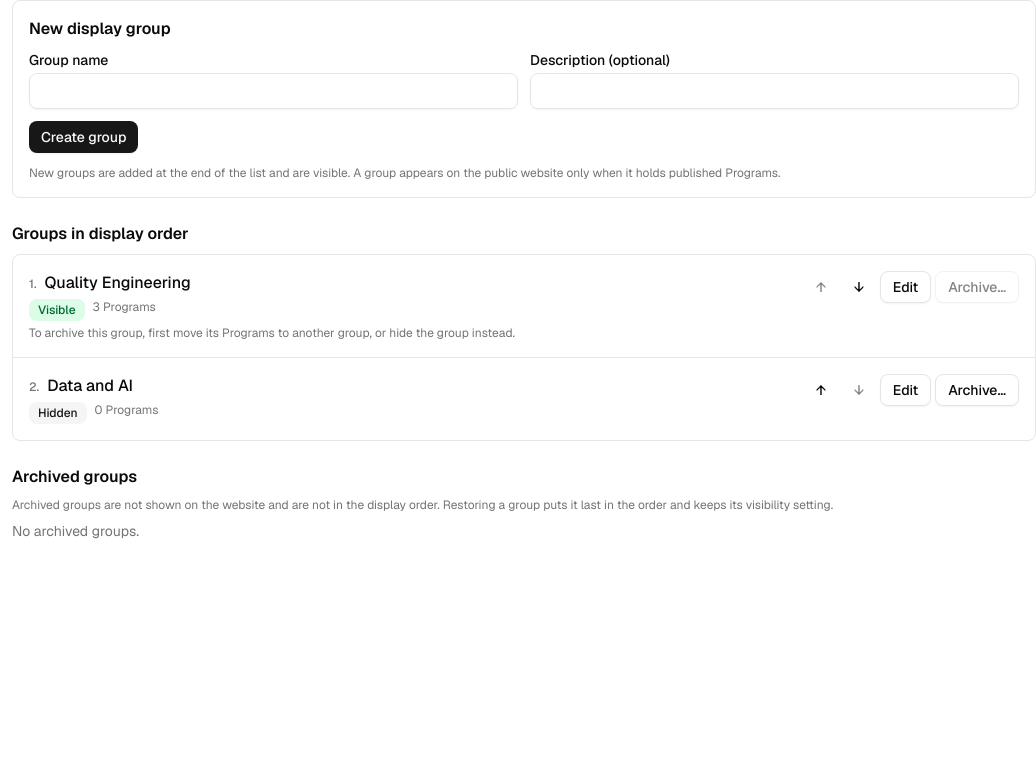
it: DisplayGroupsManager archive and restore › shows a refused archive as an alert
The image size is (1036, 768).
Click the button with aria-label "Archive Data and AI": (977, 390) [935,374,1019,406]
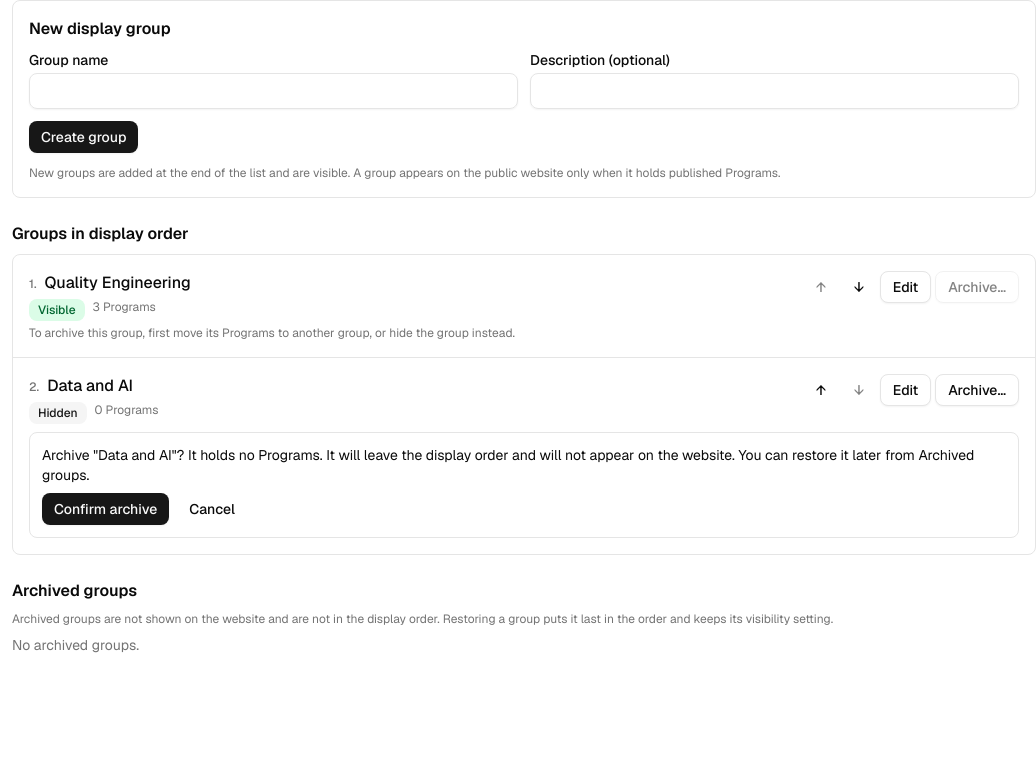
Click the button "Confirm archive": (106, 509) [42,493,169,525]
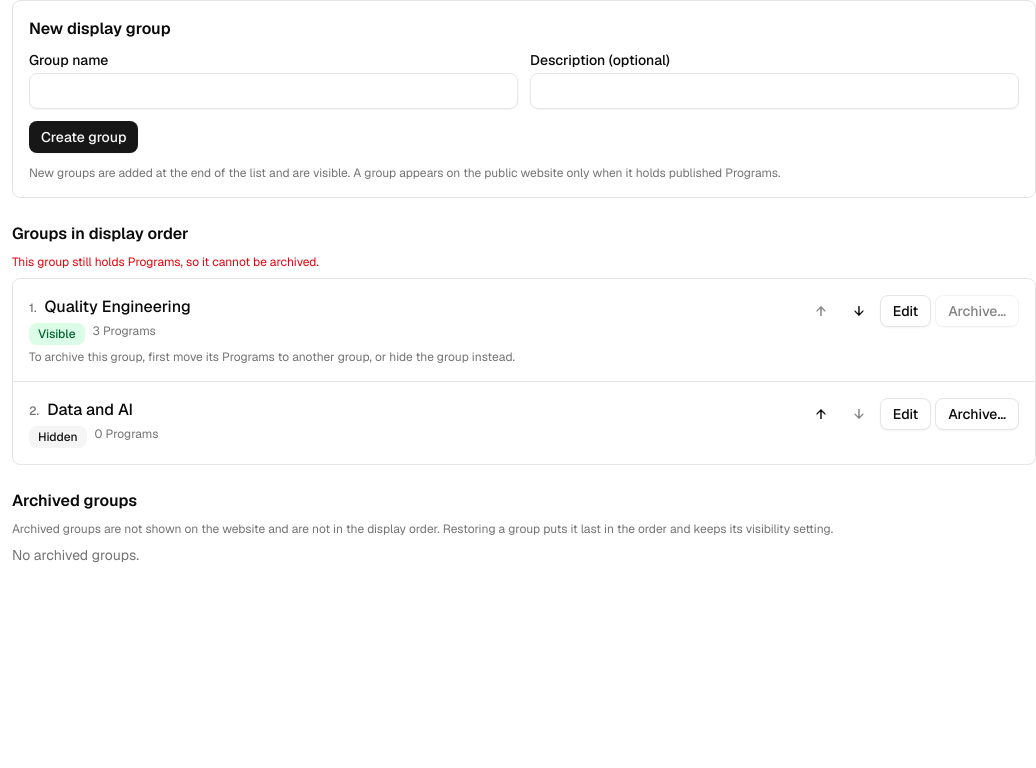
Result: the message reads "This group still holds Programs, so it cannot be archived." at [12,254,319,270]
